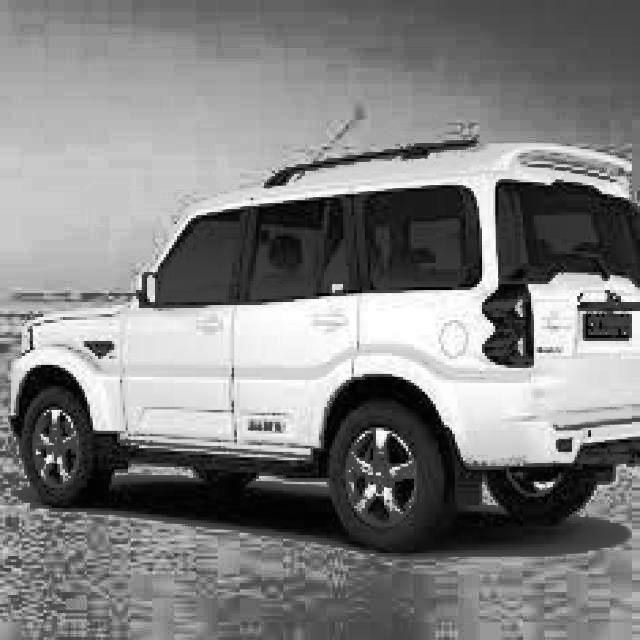Car: (0, 137, 640, 545)
